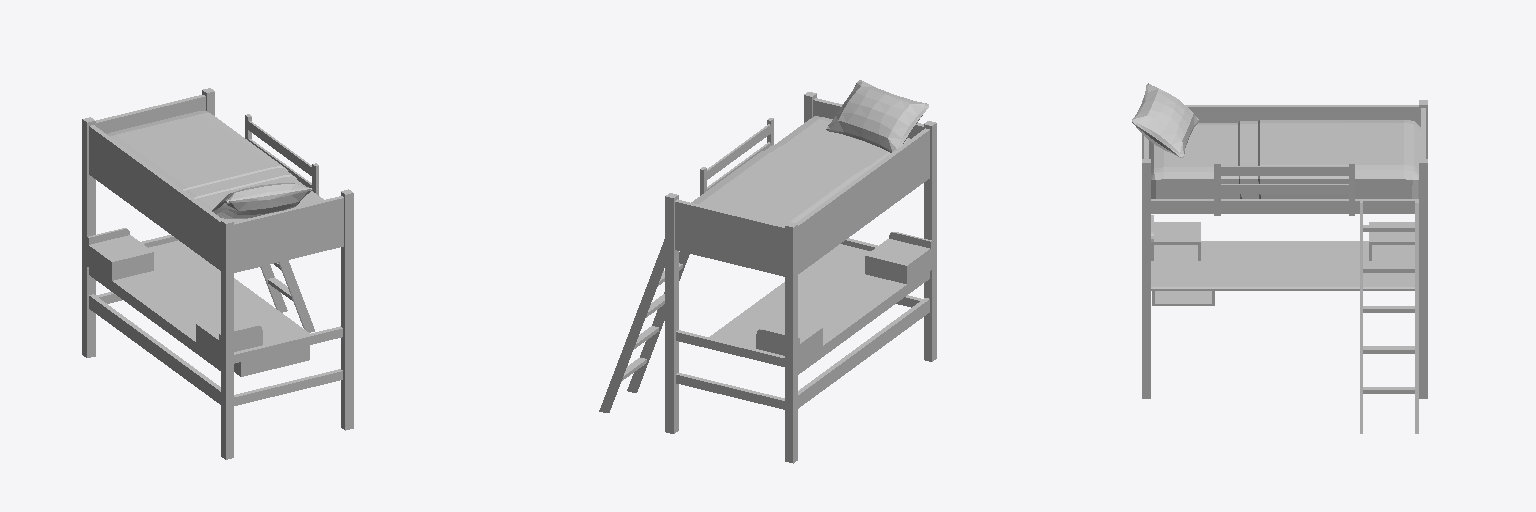
File: bed.obj
3 renders of one model, left to right at view 1: azimuth 30°, elevation 25°; view 2: azimuth 150°, elevation 25°; view 3: azimuth 270°, elevation 25°, orthographic.
Visible parts, largest first — view 1: SM_BedAndTable; view 2: SM_BedAndTable; view 3: SM_BedAndTable.
Part boxes in pixels (bbox=[...]): SM_BedAndTable: bbox=[82, 88, 353, 459]; SM_BedAndTable: bbox=[599, 80, 936, 463]; SM_BedAndTable: bbox=[1132, 83, 1427, 433].
Size of the model in its own units: 1.66 by 2.06 by 2.14.